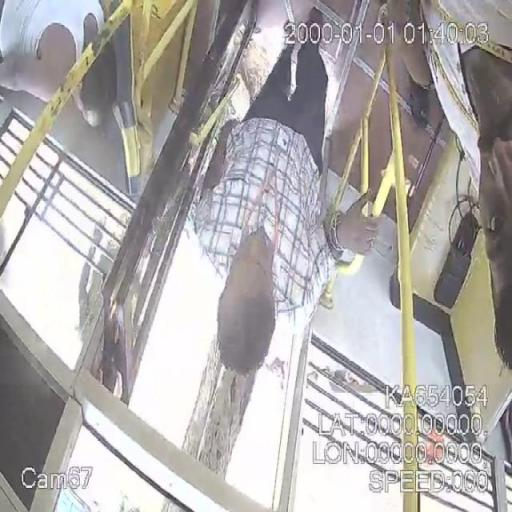persona: (188, 115, 382, 380), (418, 0, 512, 374)
